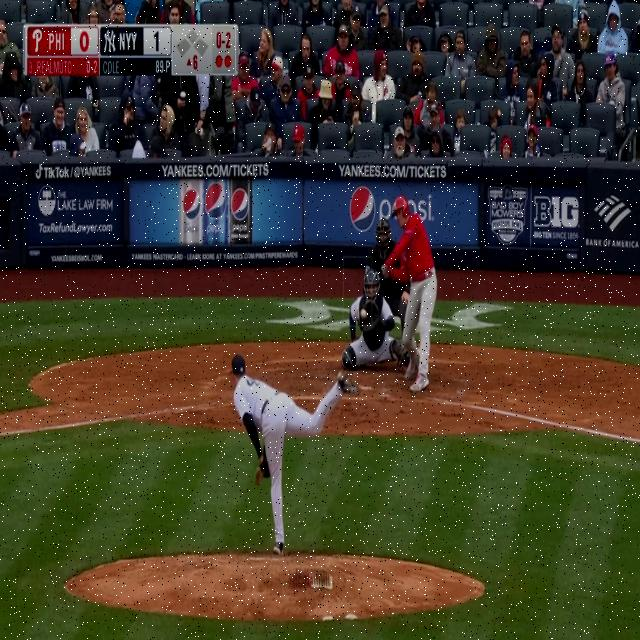baseball: (360, 309, 367, 319)
